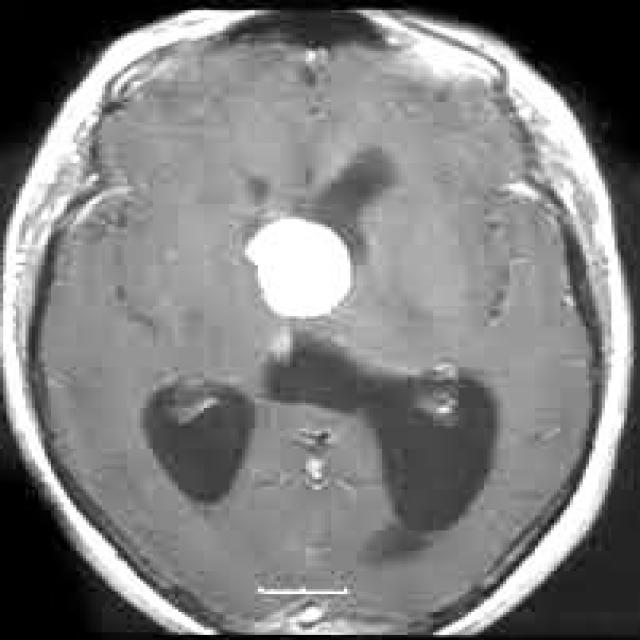Tumor-Cell: (236, 199, 380, 323)
